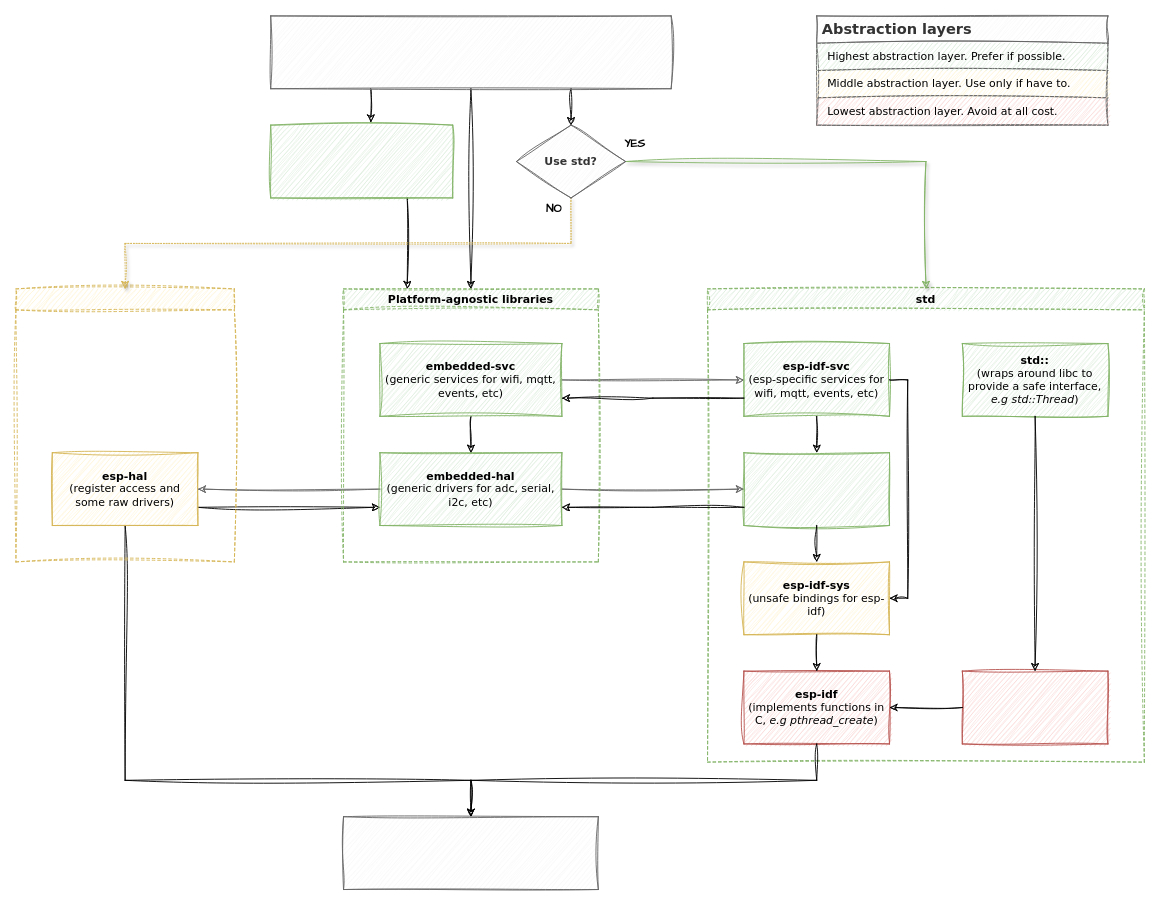
Image size: 1160x905. Some labels were removed from this diagram. Each missing label, with the centre of its shape:
"3rd party libraries (display drivers, time libraries, executors, etc)" goes at point (361, 161).
"esp-idf-hal (esp-specific drivers for can, i2c, adc, etc)" goes at point (816, 489).
"Hardware" goes at point (470, 853).
"libc (binds C implementations to Rust, e.g libc:pthread_create )" goes at point (1034, 707).
"no_std" goes at point (124, 425).
"User code" goes at point (470, 52).
